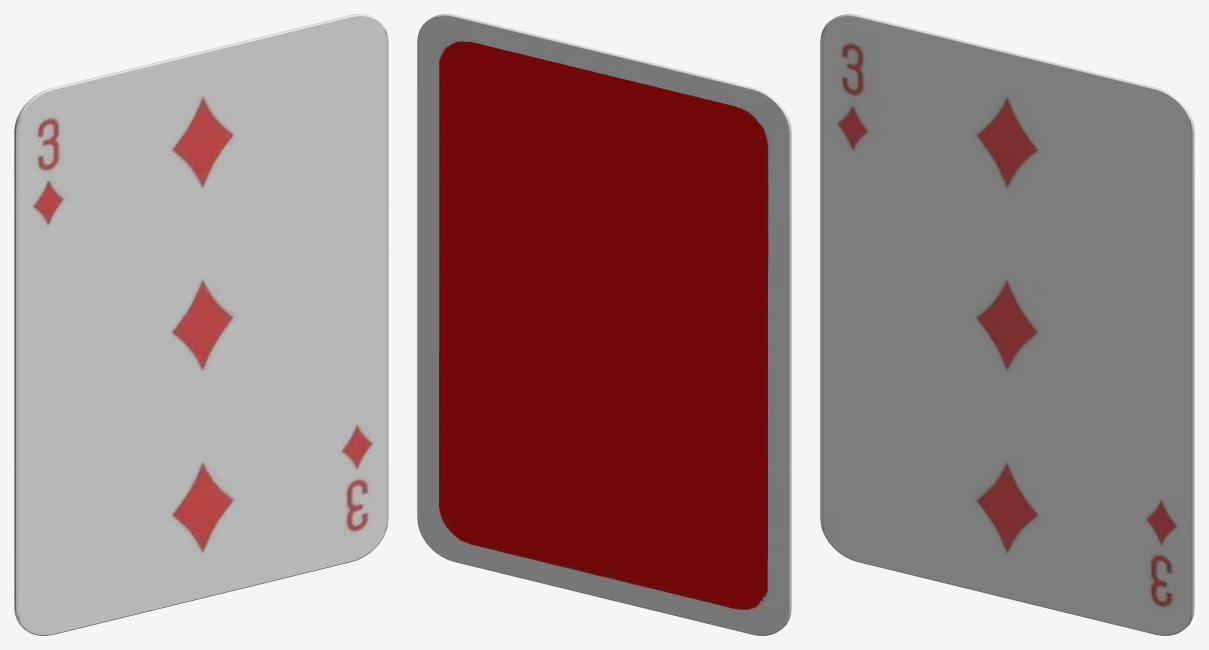
File: diamonds_3-transformed.glb
3 renders of one model, left to right at view 1: azimuth 30°, elevation 25°; view 2: azimuth 150°, elevation 25°; view 3: azimuth 330°, elevation 25°, orthographic.
Visible parts, largest first — view 1: defaultMaterial.033; view 2: defaultMaterial.033; view 3: defaultMaterial.033.
Boxes of the visible parts, box(x1,y1,x2,y2) form: defaultMaterial.033: box(14, 14, 388, 635); defaultMaterial.033: box(417, 14, 791, 635); defaultMaterial.033: box(820, 14, 1194, 635).
Size of the model in its own units: 0.1408 by 0.1972 by 0.00111.
Materials: 1 (1 with a texture image).
